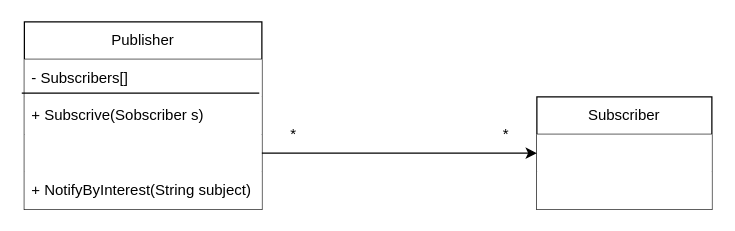
The diagram is 735 pixels wide and 231 high, and some of its shapes have lost their labels. The shapes that lost their labels are listed below. From the top down, each one's centre as x and y in pixels, then its label:
At [142,152]: "+ NotifyAll()".
At [623,152]: "- ID int".
At [623,190]: "+ Update()".
